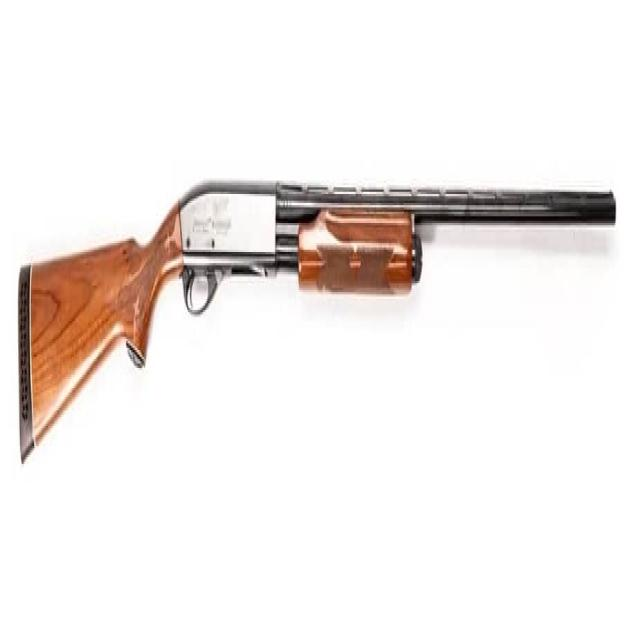ShotGun: (15, 178, 617, 462)
